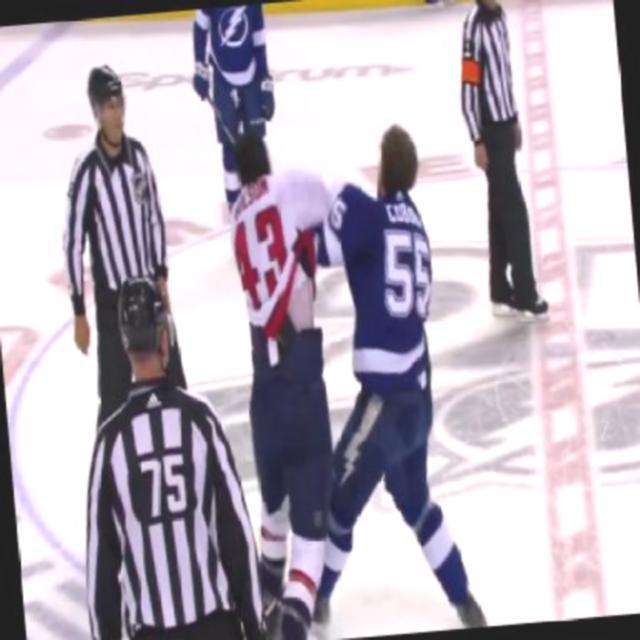fight: (220, 114, 468, 638)
non-fight: (57, 266, 268, 639), (46, 58, 189, 391), (449, 0, 555, 335)
